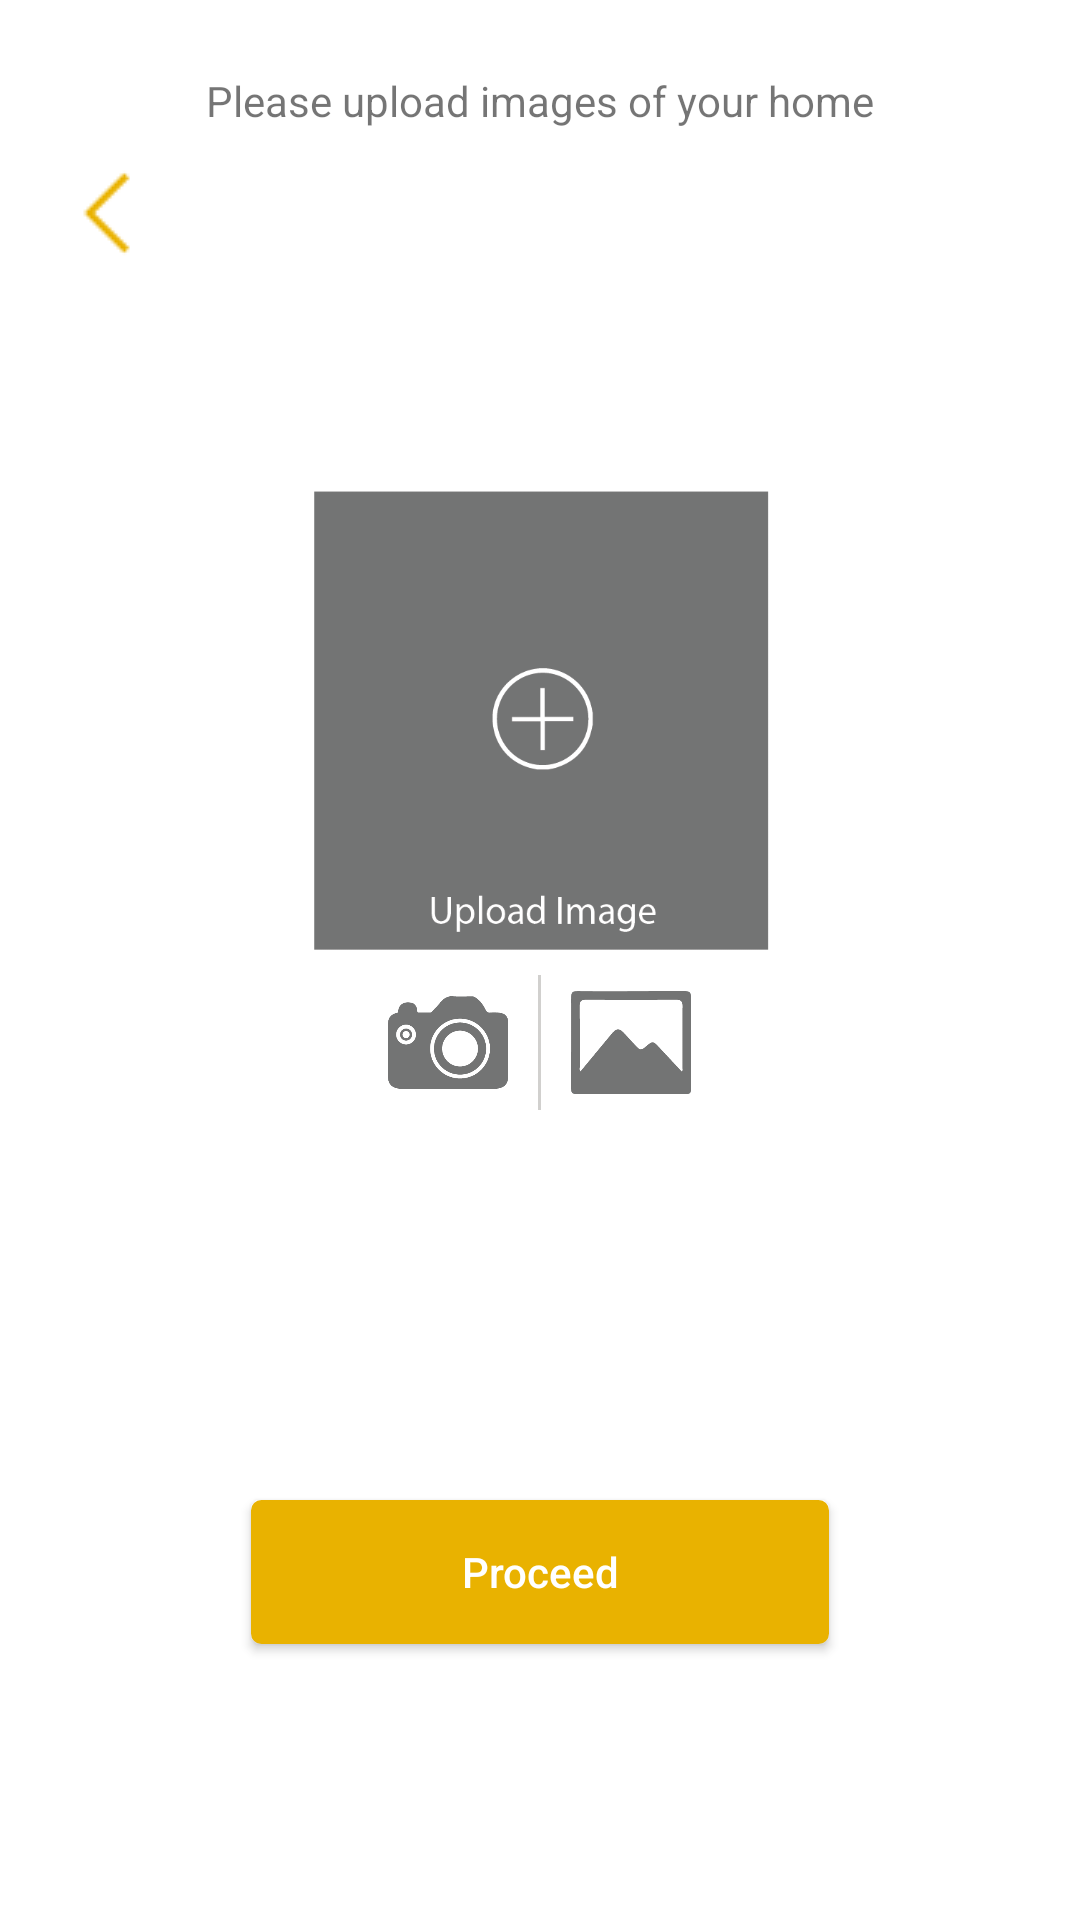

Screen size 1080x1920. Icon name, then its center in pixels as (x,y):
back: (106,213)
camera: (448,1042)
gallery: (631,1042)
